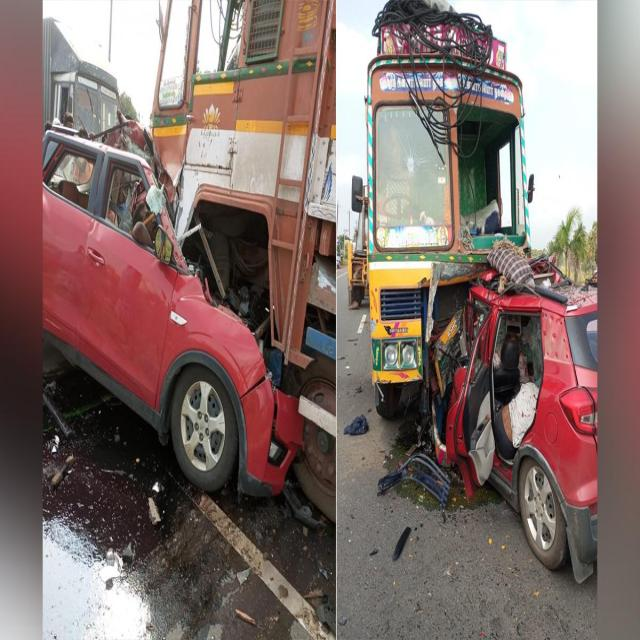accident: (42, 129, 305, 496), (349, 0, 530, 433), (432, 275, 598, 583)
